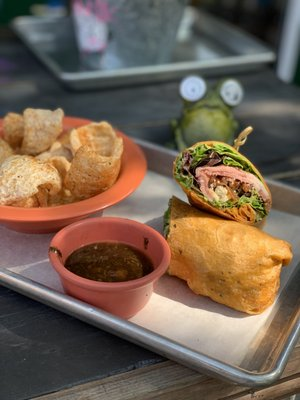sushi: (0, 108, 148, 235), (48, 216, 171, 321)
